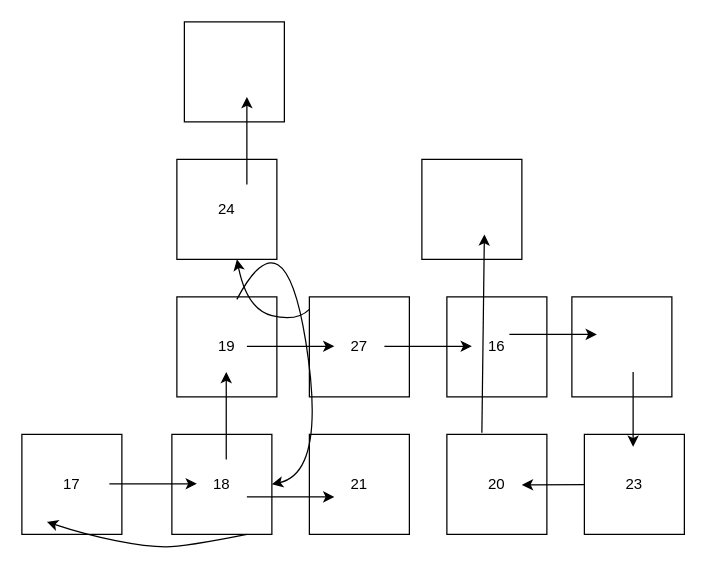
The diagram is 706 pixels wide and 569 high, and some of its shapes have lost their labels. The box of each missing label's shape, as (x1, y1, x2, y2) in pixels:
22 Spellbook: (183, 21, 284, 122)
25 - Potion: (571, 296, 672, 397)
26 - Wand: (421, 158, 522, 259)
